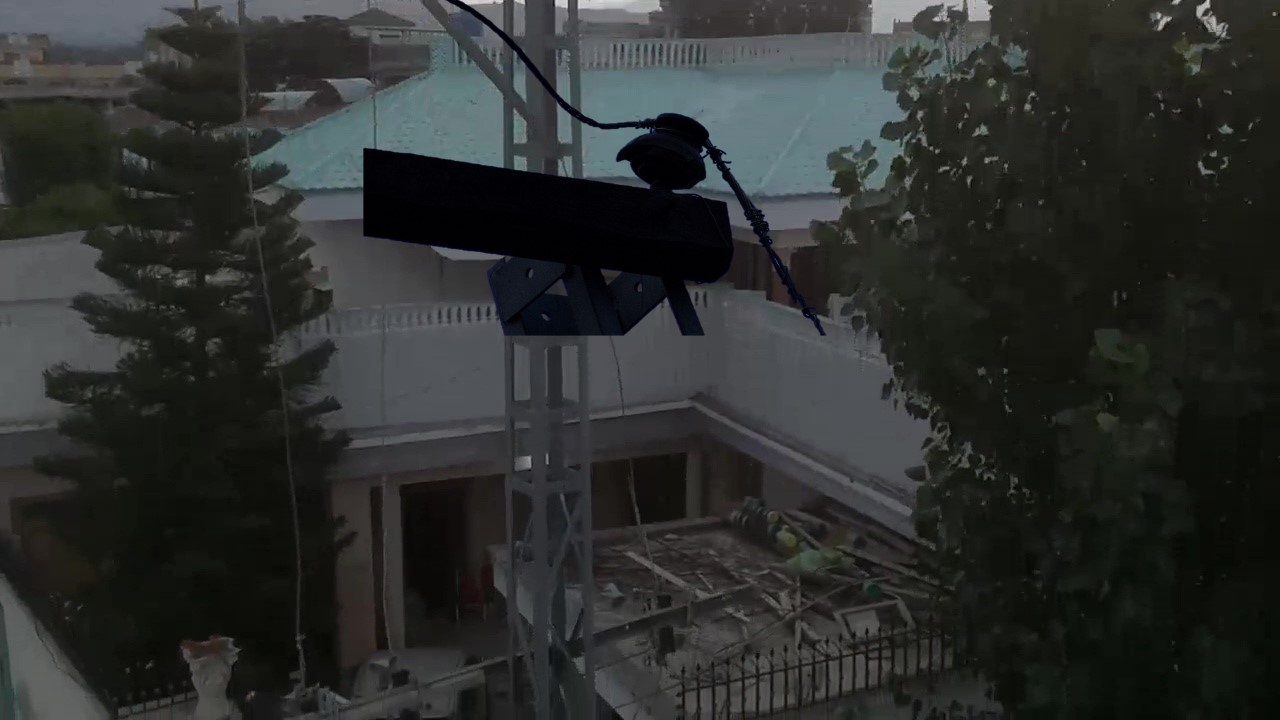defect_pin: (615, 105, 721, 195)
